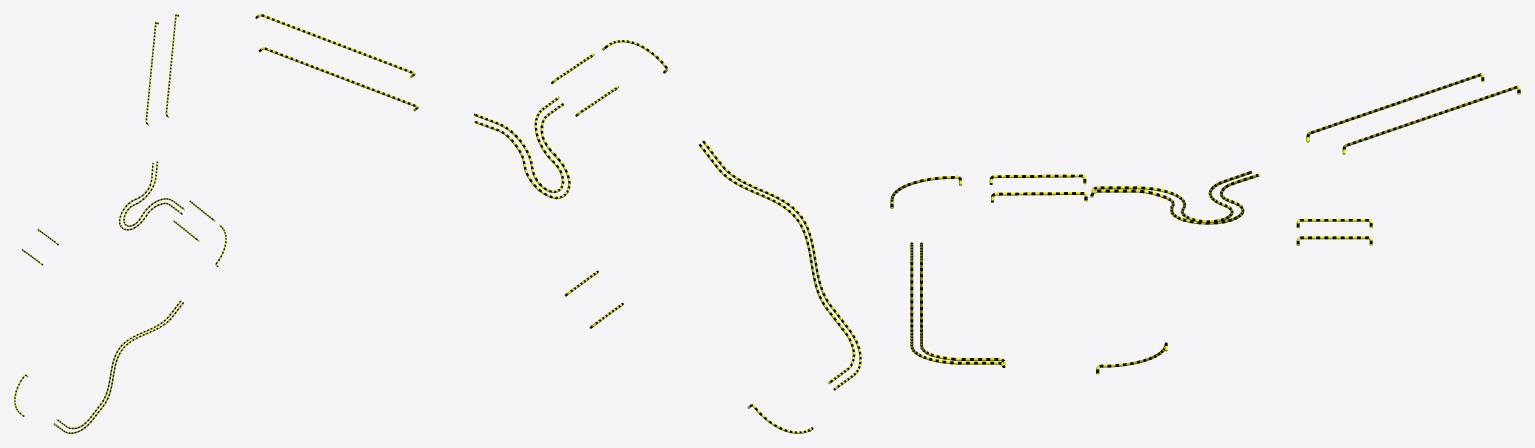
Rendered from rod_12.FBX.
3 renders of one model, left to right at view 1: azimuth 30°, elevation 25°; view 2: azimuth 150°, elevation 25°; view 3: azimuth 270°, elevation 25°, orthographic. The views are drawn at different scales.
Visible parts, largest first — view 1: rod_12; view 2: rod_12; view 3: rod_12.
Boxes of the visible parts, x1,y1,x2,y2 form: rod_12: [14, 14, 226, 433]; rod_12: [255, 14, 861, 433]; rod_12: [890, 73, 1520, 374].
Size of the model in its own units: 5666 by 5782 by 6073.
